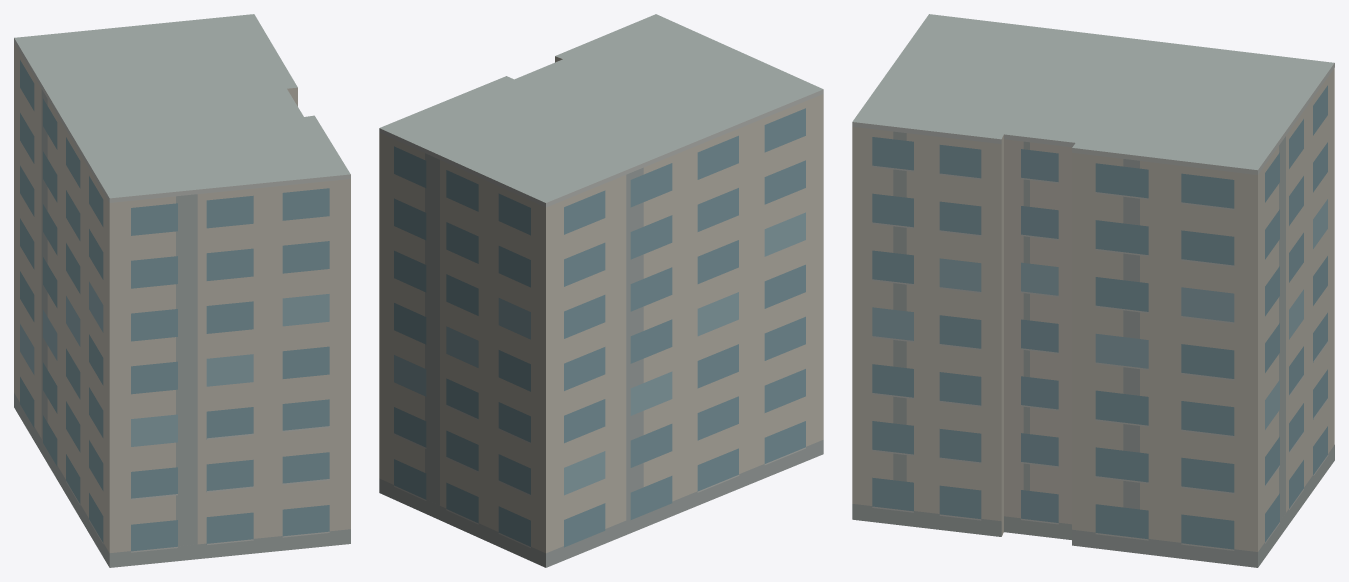
Rendered from survey-upis-32874405.glb.
3 views of the same model, side by side, from view 1: azimuth 30°, elevation 25°; view 2: azimuth 150°, elevation 25°; view 3: azimuth 270°, elevation 25° (orthographic). The views are drawn at different scales.
Parts seen in each view (by area): view 1: survey-upis-32874405.tmp; view 2: survey-upis-32874405.tmp; view 3: survey-upis-32874405.tmp.
Boxes of the visible parts, x1,y1,x2,y2 form: survey-upis-32874405.tmp: [14, 14, 350, 567]; survey-upis-32874405.tmp: [379, 14, 823, 567]; survey-upis-32874405.tmp: [852, 14, 1334, 567].
Size of the model in its own units: 16.86 by 20 by 22.
